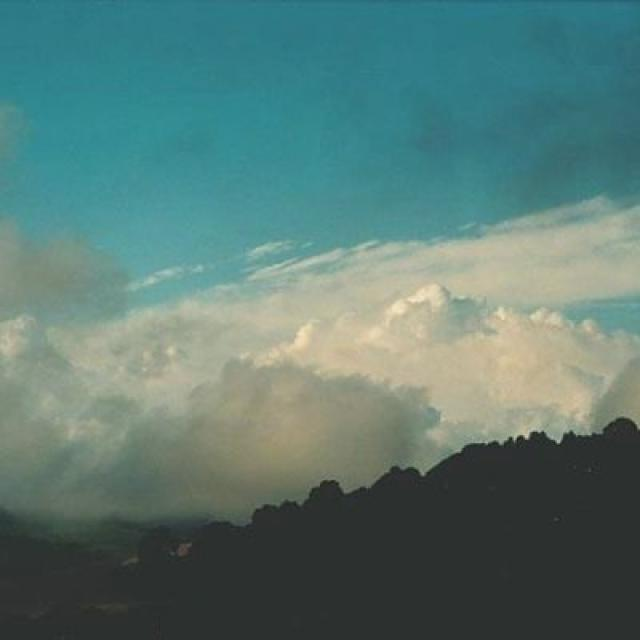St: (5, 198, 638, 449)
